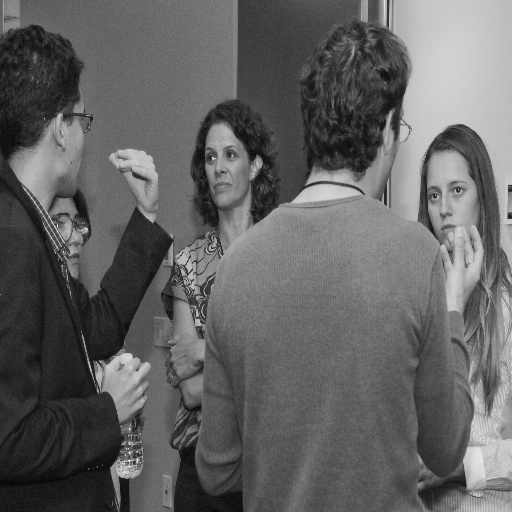hand: (438, 221, 484, 305), (100, 353, 152, 423), (118, 147, 163, 219), (163, 331, 201, 391)
